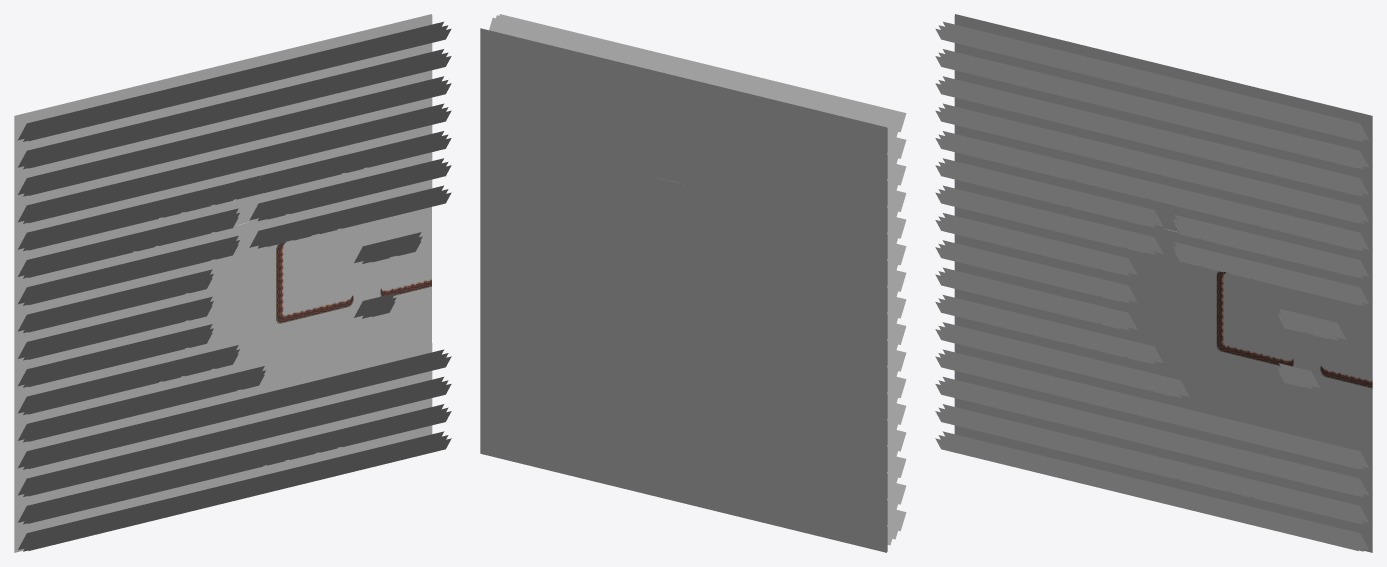
The model's file is Plat_full_01_20.obj.
3 renders of one model, left to right at view 1: azimuth 30°, elevation 25°; view 2: azimuth 150°, elevation 25°; view 3: azimuth 330°, elevation 25°, orthographic. The views are drawn at different scales.
Visible parts, largest first — view 1: map; view 2: map; view 3: map.
Boxes of the visible parts, x1,y1,x2,y2 form: map: (14,14,451,552); map: (480,14,906,552); map: (935,14,1372,552).
Bounding box in the file's own units: 32 × 32.12 × 2.66.
